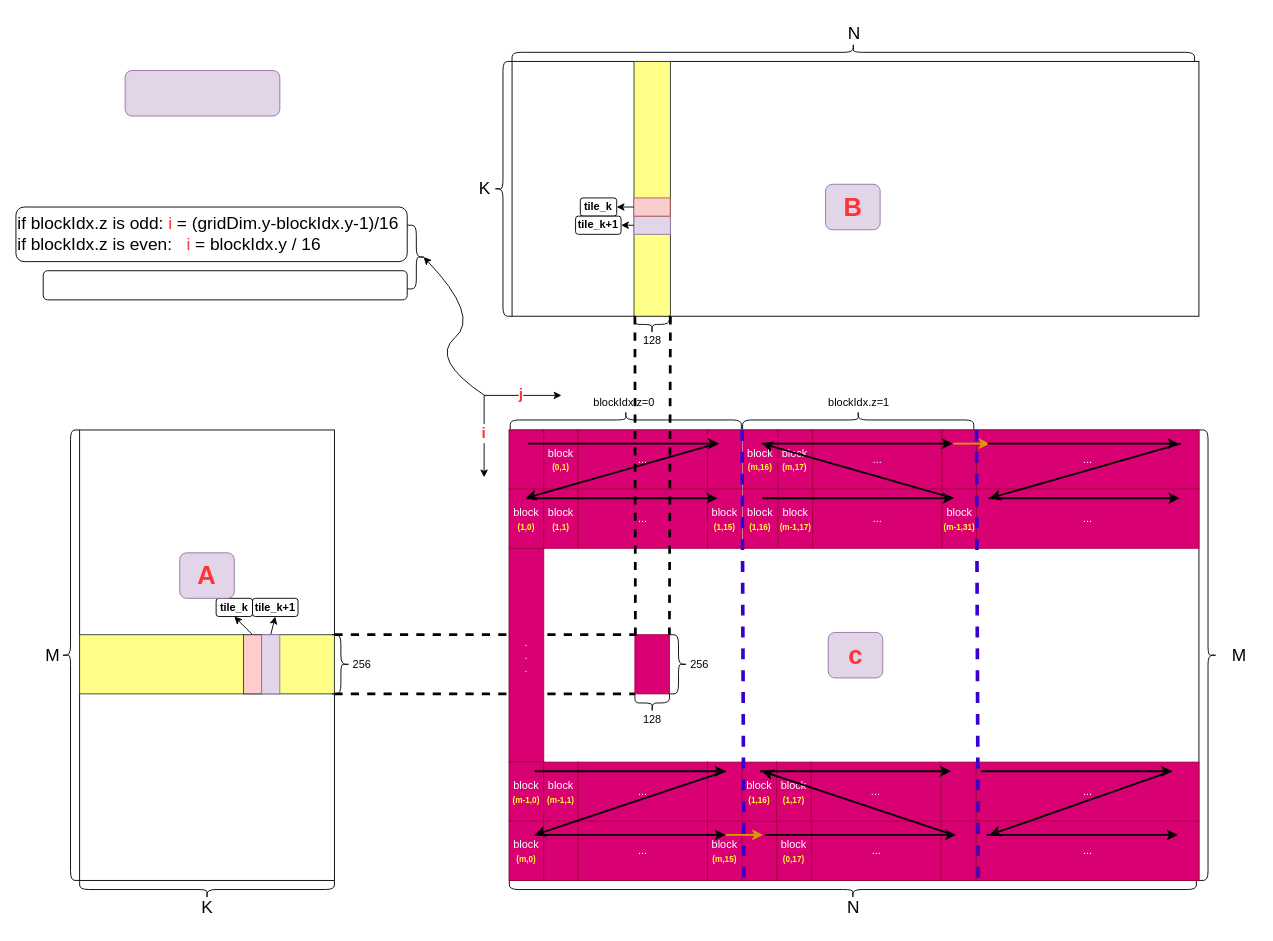
The diagram is 1273 pixels wide and 941 high, and some of its shapes have lost their labels. The shapes that lost their labels are listed below. From the top down, each one's centre as x and y in pixels, then its label:
At point (202, 93): "C=A@B".
At point (224, 285): "j = blockIdx.z*gridDim.x+blockIdx.x".
At point (526, 459): "block (0,0)".
At point (724, 459): "block ( 0 ,15)".
At point (959, 459): "block (m,31)".
At point (651, 664): "block (i, j)".
At point (724, 791): "block (m-1,15)".
At point (958, 791): "block (1,31)".
At point (560, 850): "block (m,1)".
At point (759, 850): "block (0,16)".
At point (958, 850): "block (0,31)".
